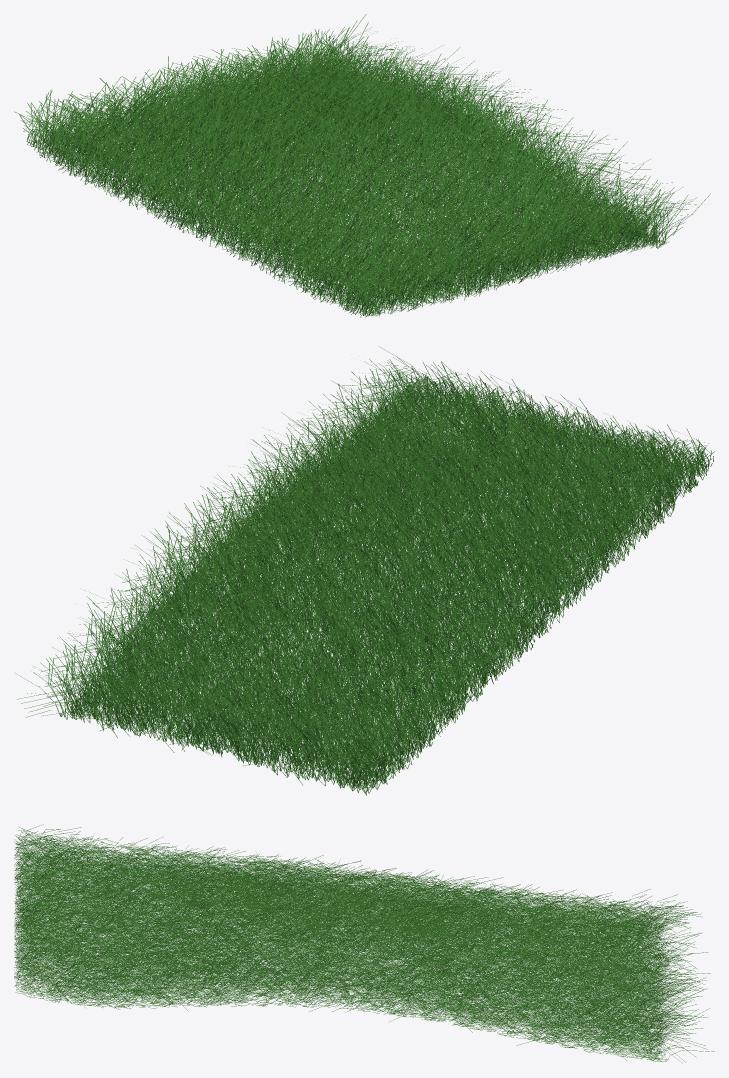
File: patch_of_grass_-_super_high_poly.glb
The picture shows the model from 3 angles, top to bottom: view 1: azimuth 30°, elevation 25°; view 2: azimuth 150°, elevation 25°; view 3: azimuth 270°, elevation 25°; orthographic projection. The views are drawn at different scales.
Visible parts, largest first — view 1: Object_5, Object_6, Object_4, Object_7, Object_8; view 2: Object_5, Object_4, Object_6, Object_7, Object_8; view 3: Object_5, Object_6, Object_7, Object_4, Object_8.
Part boxes in pixels (left/top/right/bottom): Object_5: left=30, top=27, right=693, bottom=317; Object_6: left=47, top=28, right=695, bottom=314; Object_4: left=14, top=36, right=640, bottom=313; Object_7: left=115, top=22, right=710, bottom=309; Object_8: left=19, top=14, right=530, bottom=311; Object_5: left=21, top=359, right=714, bottom=784; Object_4: left=63, top=362, right=693, bottom=786; Object_6: left=59, top=357, right=707, bottom=777; Object_7: left=34, top=347, right=677, bottom=755; Object_8: left=15, top=412, right=685, bottom=795; Object_5: left=14, top=827, right=709, bottom=1062; Object_6: left=14, top=824, right=689, bottom=1051; Object_7: left=14, top=843, right=696, bottom=1060; Object_4: left=14, top=837, right=687, bottom=1051; Object_8: left=15, top=836, right=714, bottom=1063.
Size of the model in its own units: 8.06 by 2.55 by 14.09.
